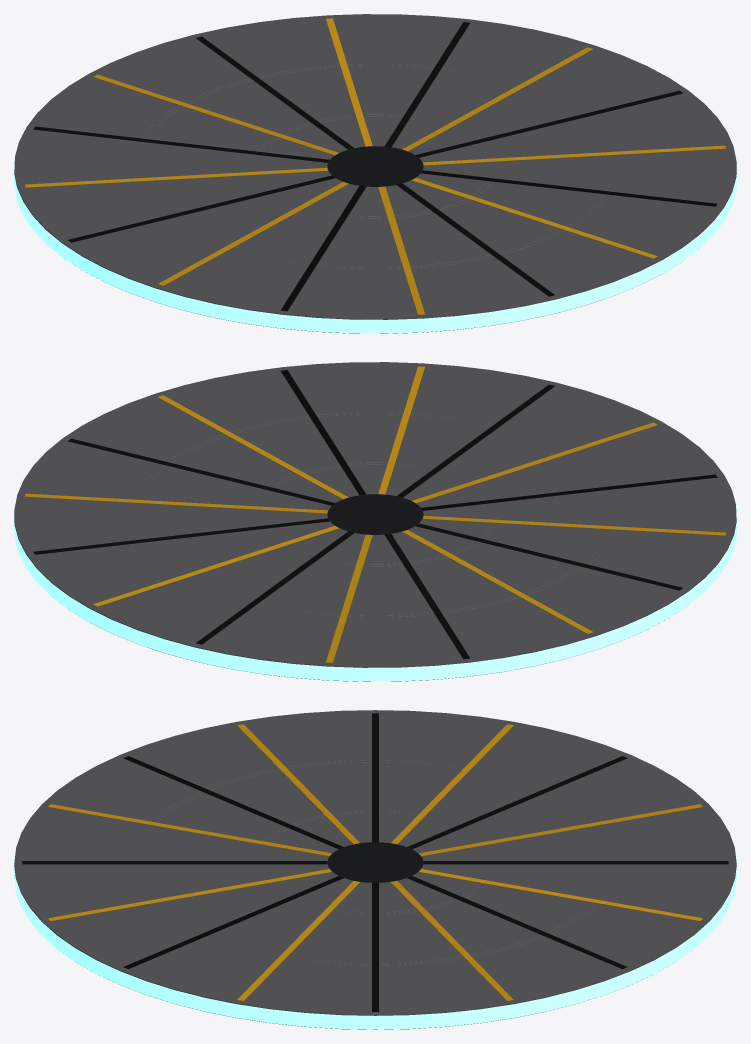
File: turntable.glb
The picture shows the model from 3 angles, top to bottom: view 1: azimuth 30°, elevation 25°; view 2: azimuth 150°, elevation 25°; view 3: azimuth 270°, elevation 25°; orthographic projection.
Visible parts, largest first — view 1: Disc; view 2: Disc; view 3: Disc.
Part boxes in pixels (bbox=[...]): Disc: bbox=[14, 14, 736, 333]; Disc: bbox=[14, 362, 736, 681]; Disc: bbox=[14, 710, 736, 1029].
Size of the model in its own units: 18.02 by 0.406 by 18.02.
